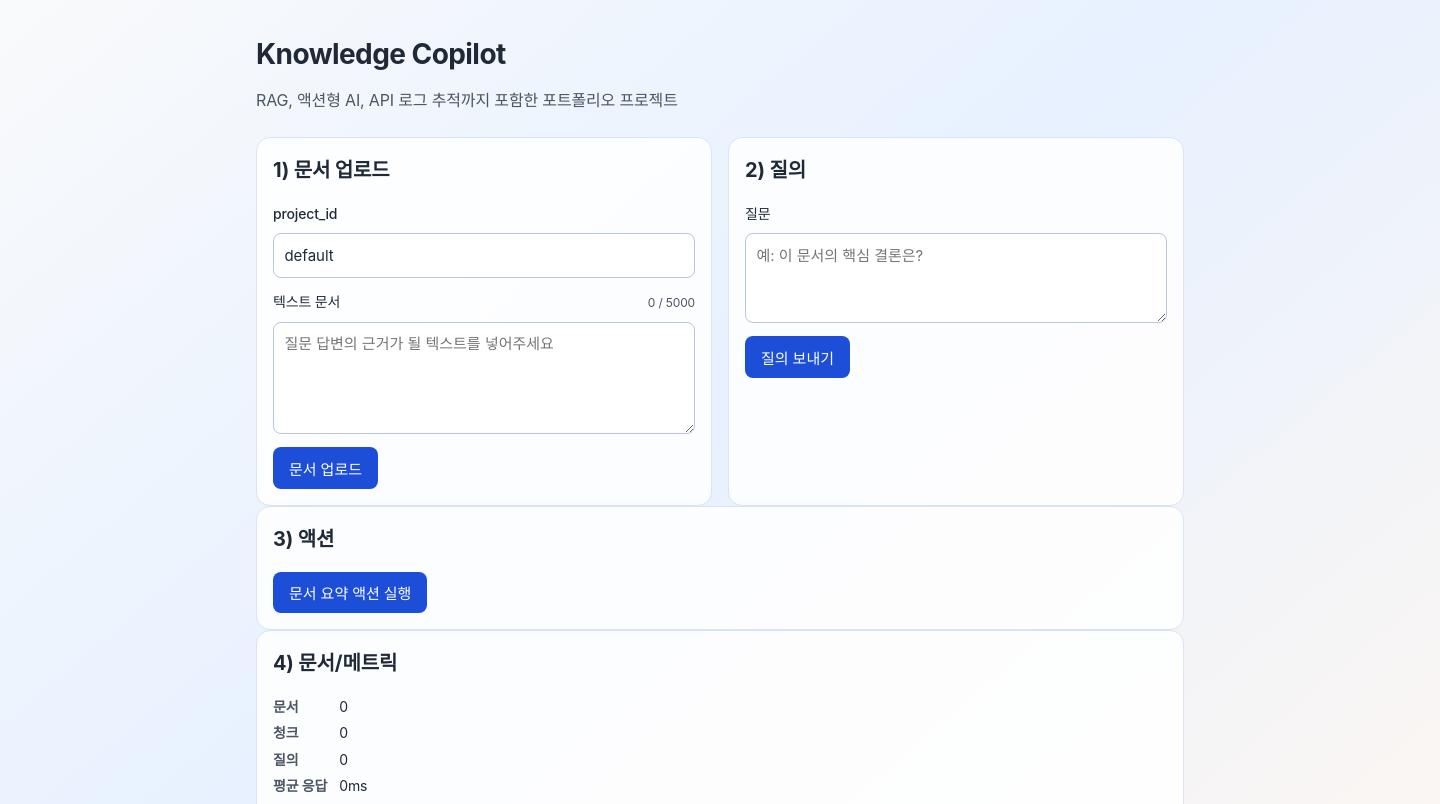
Test: HomePage › validates empty upload text
Click the button "문서 업로드": [326, 468] box top-left (273, 447), bottom-right (378, 489)
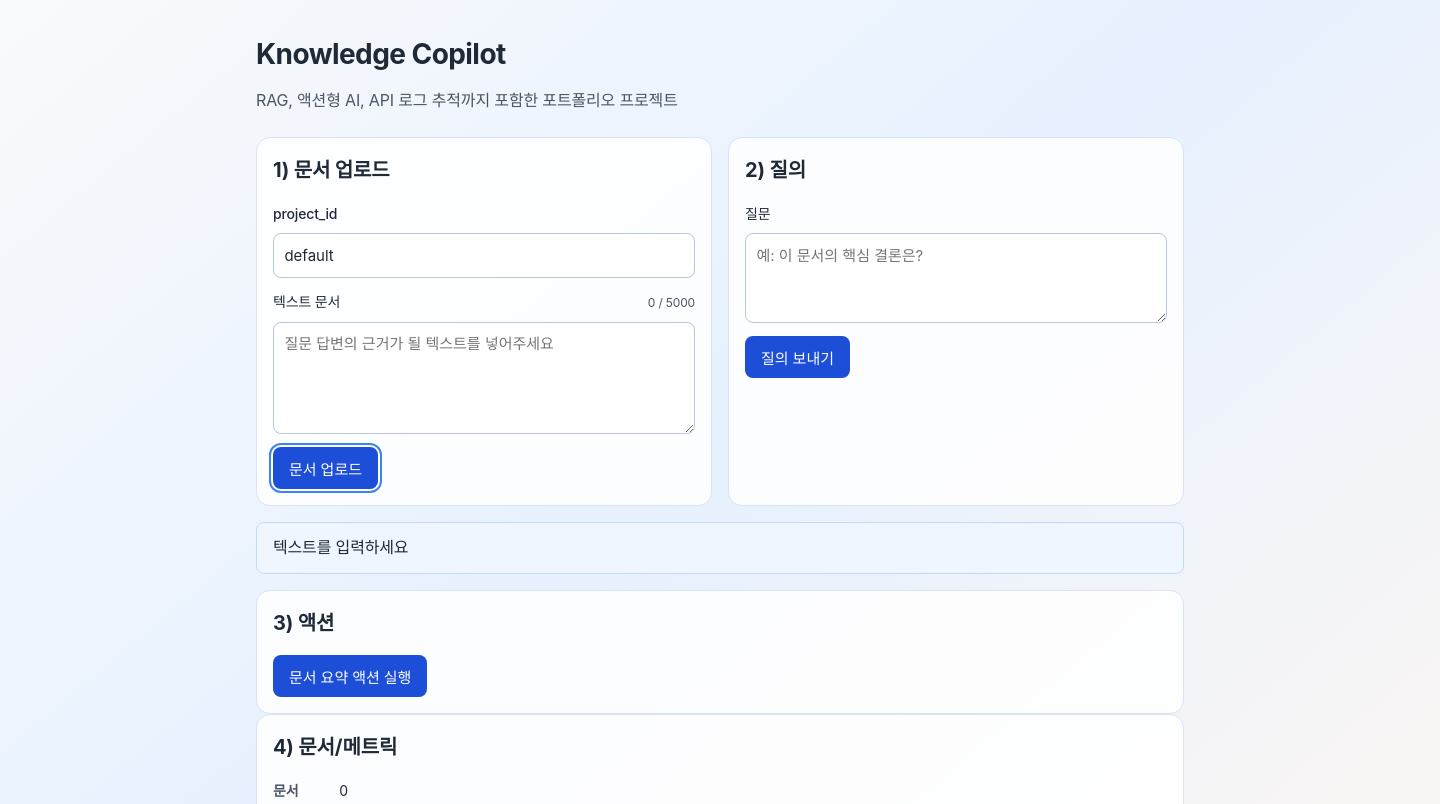
Expected: the text "텍스트를 입력하세요" is shown, top-left (256, 522), bottom-right (1184, 574)
